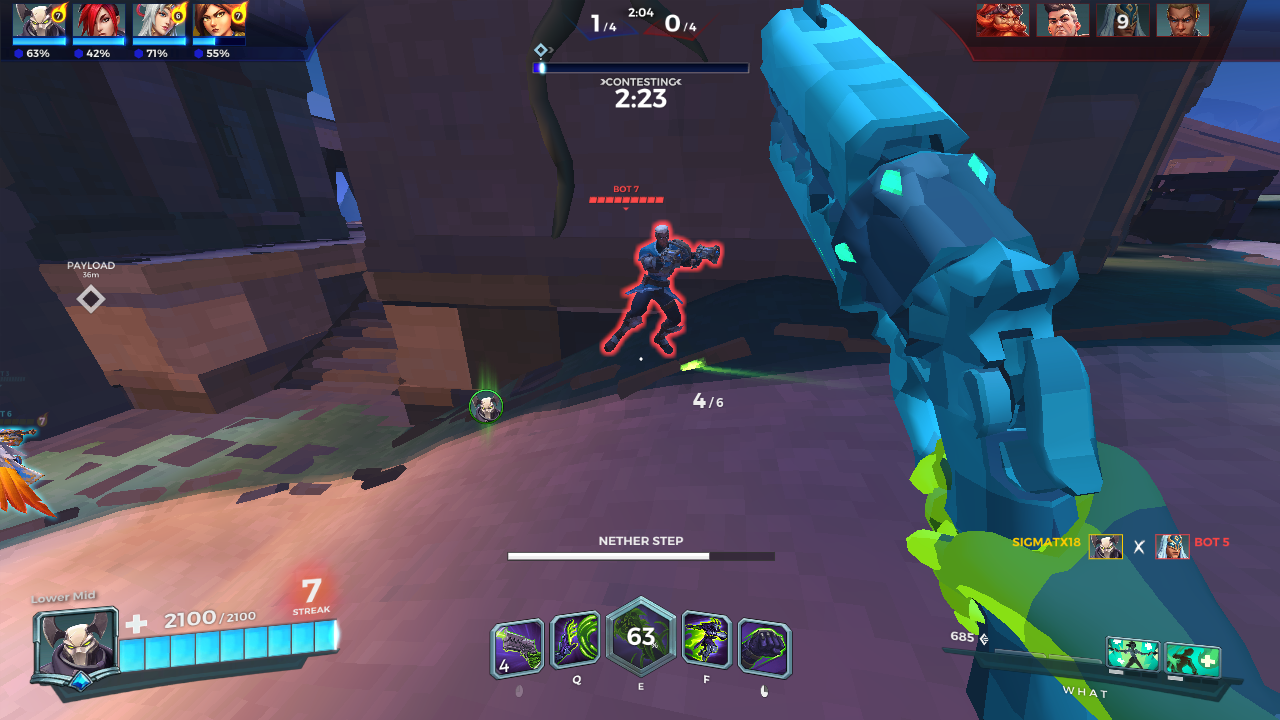model: (617, 210, 729, 377)
